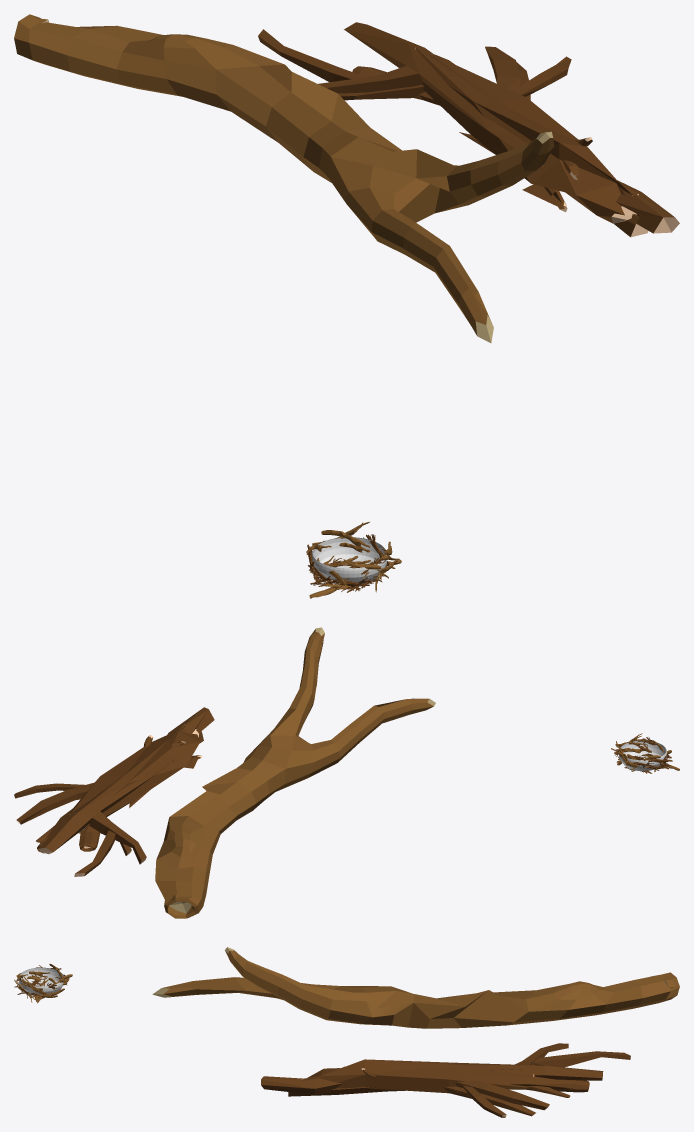
The model's file is bird_nest.fbx.
3 renders of one model, top to bottom at view 1: azimuth 30°, elevation 25°; view 2: azimuth 150°, elevation 25°; view 3: azimuth 270°, elevation 25°, orthographic. The views are drawn at different scales.
Parts seen in each view (by area): view 1: WeirdStick, Branch, Nest; view 2: WeirdStick, Branch, Nest; view 3: WeirdStick, Branch, Nest.
Boxes of the visible parts, x1,y1,x2,y2 form: WeirdStick: [14, 14, 554, 342]; Branch: [258, 22, 679, 237]; Nest: [311, 537, 387, 584]; WeirdStick: [155, 627, 435, 918]; Branch: [14, 707, 214, 876]; Nest: [619, 740, 666, 770]; WeirdStick: [152, 947, 679, 1028]; Branch: [261, 1043, 630, 1117]; Nest: [18, 967, 63, 995].
Size of the model in its own units: 2473 by 911 by 3631.
